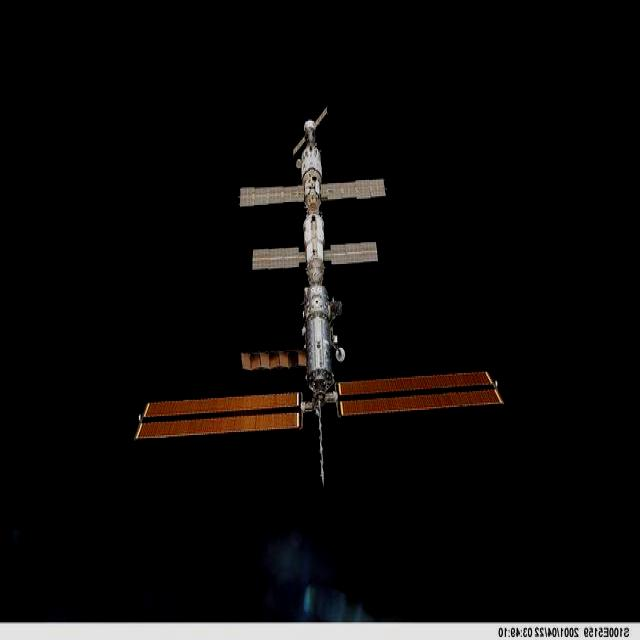satellite: (135, 109, 502, 482)
